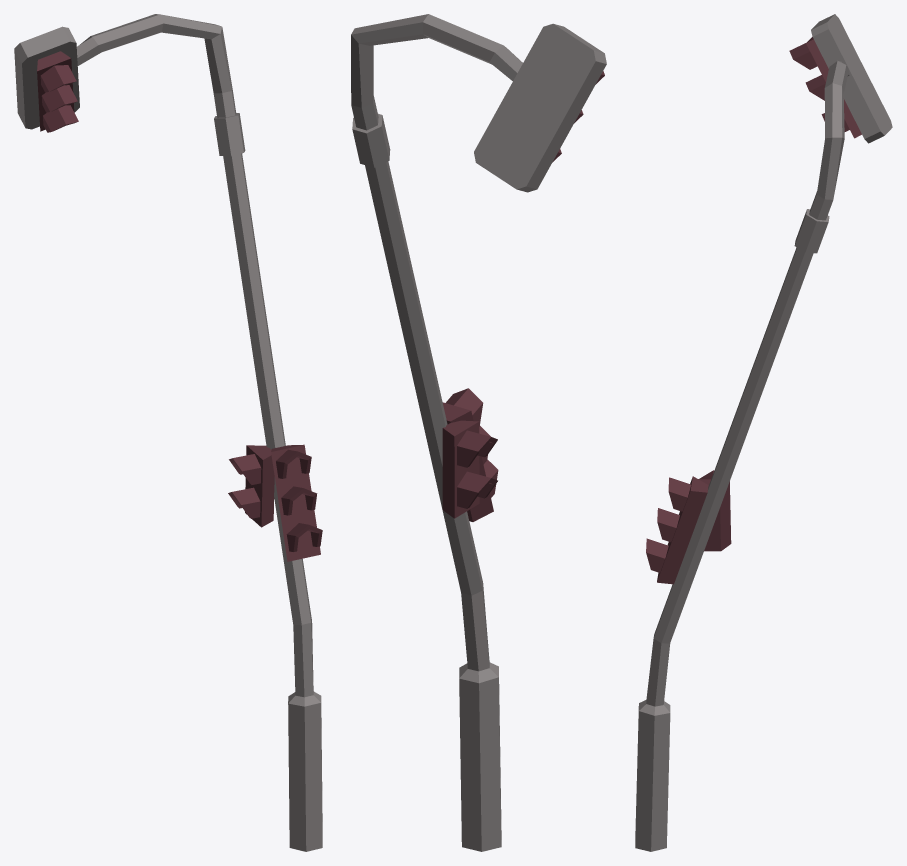
File: traffic-lights-apocalypse-a.fbx
3 views of the same model, side by side, from view 1: azimuth 30°, elevation 25°; view 2: azimuth 150°, elevation 25°; view 3: azimuth 270°, elevation 25° (orthographic). The views are drawn at different scales.
Visible parts, largest first — view 1: traffic-lights-apocalypse-a; view 2: traffic-lights-apocalypse-a; view 3: traffic-lights-apocalypse-a.
Boxes of the visible parts, bbox=[...] form: traffic-lights-apocalypse-a: bbox=[14, 14, 322, 851]; traffic-lights-apocalypse-a: bbox=[351, 14, 606, 851]; traffic-lights-apocalypse-a: bbox=[635, 14, 892, 851].
Size of the model in its own units: 2.27 by 7.97 by 2.47.
